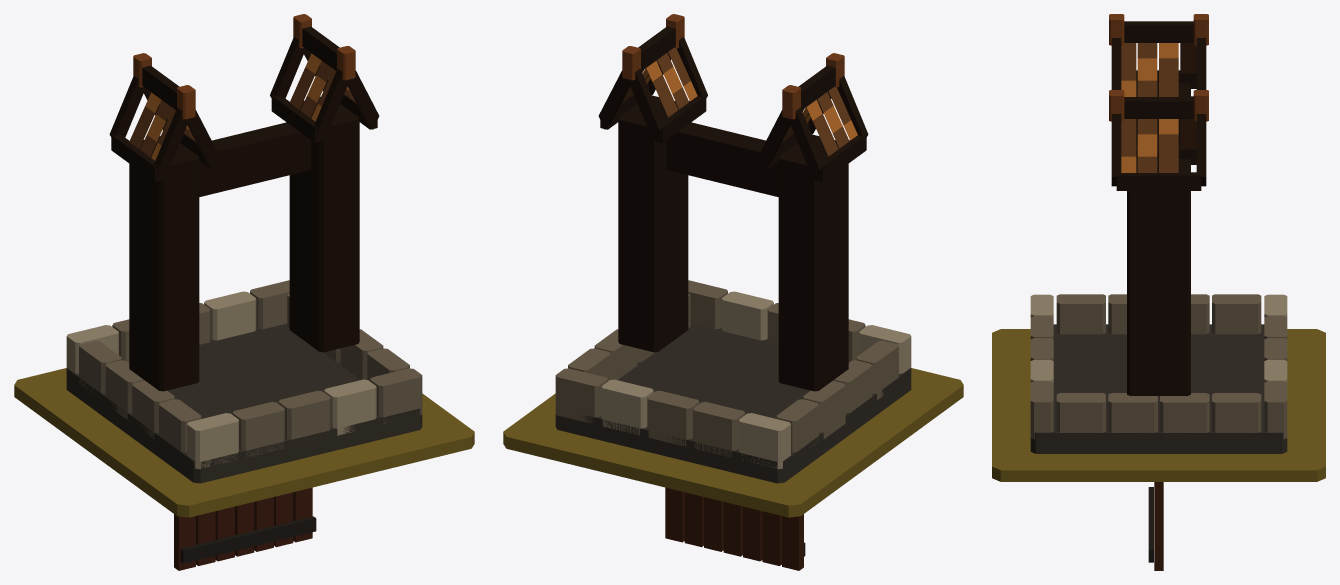
Rendered from gate_t2.glb.
The picture shows the model from 3 angles, left to right: view 1: azimuth 30°, elevation 25°; view 2: azimuth 150°, elevation 25°; view 3: azimuth 270°, elevation 25°; orthographic projection. The views are drawn at different scales.
Parts seen in each view (by area): view 1: MMR | gate | T02 Architecture.001, MMR | gate | Tier 02 Ground.001, MMR | gate | T02 Lift Gate.001; view 2: MMR | gate | T02 Architecture.001, MMR | gate | Tier 02 Ground.001, MMR | gate | T02 Lift Gate.001; view 3: MMR | gate | T02 Architecture.001, MMR | gate | Tier 02 Ground.001, MMR | gate | T02 Lift Gate.001.
Boxes of the visible parts, x1=… form: MMR | gate | T02 Architecture.001: x1=66, y1=14, x2=422, y2=483; MMR | gate | Tier 02 Ground.001: x1=14, y1=368, x2=474, y2=517; MMR | gate | T02 Lift Gate.001: x1=174, y1=487, x2=316, y2=570; MMR | gate | T02 Architecture.001: x1=555, y1=14, x2=911, y2=483; MMR | gate | Tier 02 Ground.001: x1=503, y1=368, x2=963, y2=517; MMR | gate | T02 Lift Gate.001: x1=665, y1=487, x2=805, y2=570; MMR | gate | T02 Architecture.001: x1=1030, y1=14, x2=1287, y2=453; MMR | gate | Tier 02 Ground.001: x1=992, y1=329, x2=1325, y2=481; MMR | gate | T02 Lift Gate.001: x1=1148, y1=482, x2=1163, y2=570.
Size of the model in its own units: 1.3 by 2.08 by 1.3.
Materials: 1 (1 with a texture image).
